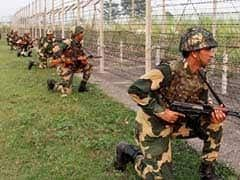gun: (157, 93, 236, 126), (46, 52, 107, 70), (29, 36, 39, 42)
uniform: (130, 52, 215, 175), (55, 36, 85, 90), (41, 36, 57, 70)
